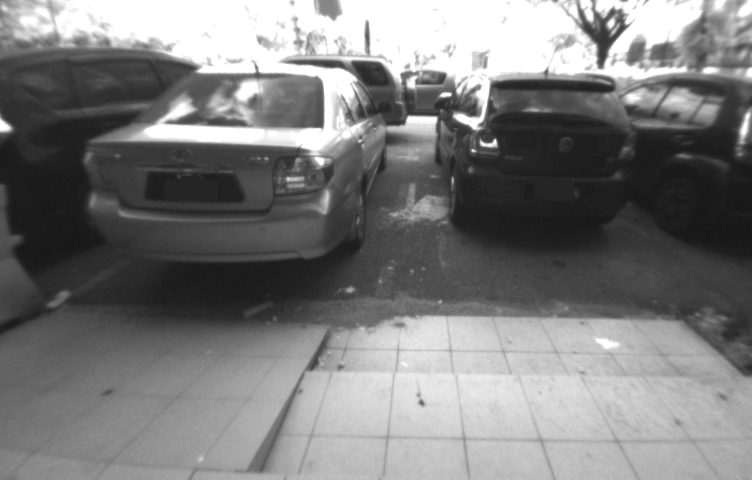down_steps: (268, 299, 752, 480)
mixed_gradient: (183, 317, 382, 480)
